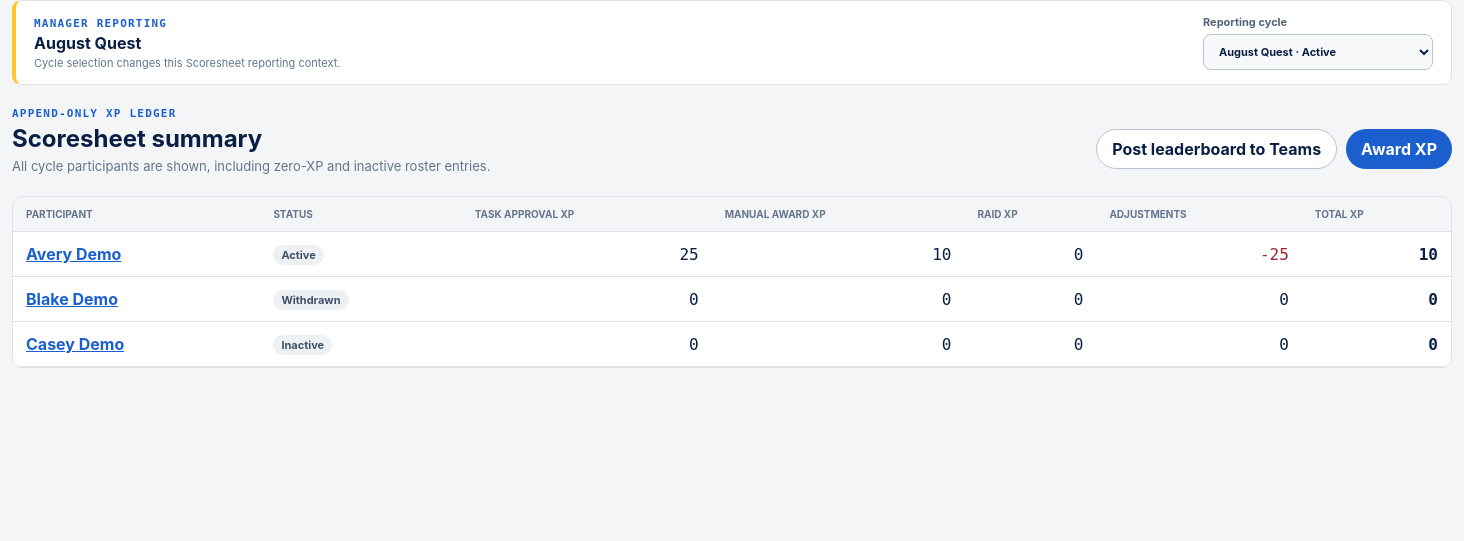
Test case: manager Scoresheet › posts only cycle context and a server-generated requestId, retaining it for retry
Click the button "Post leaderboard to Teams" at coordinates (1217, 148), box [1096,128,1337,168]
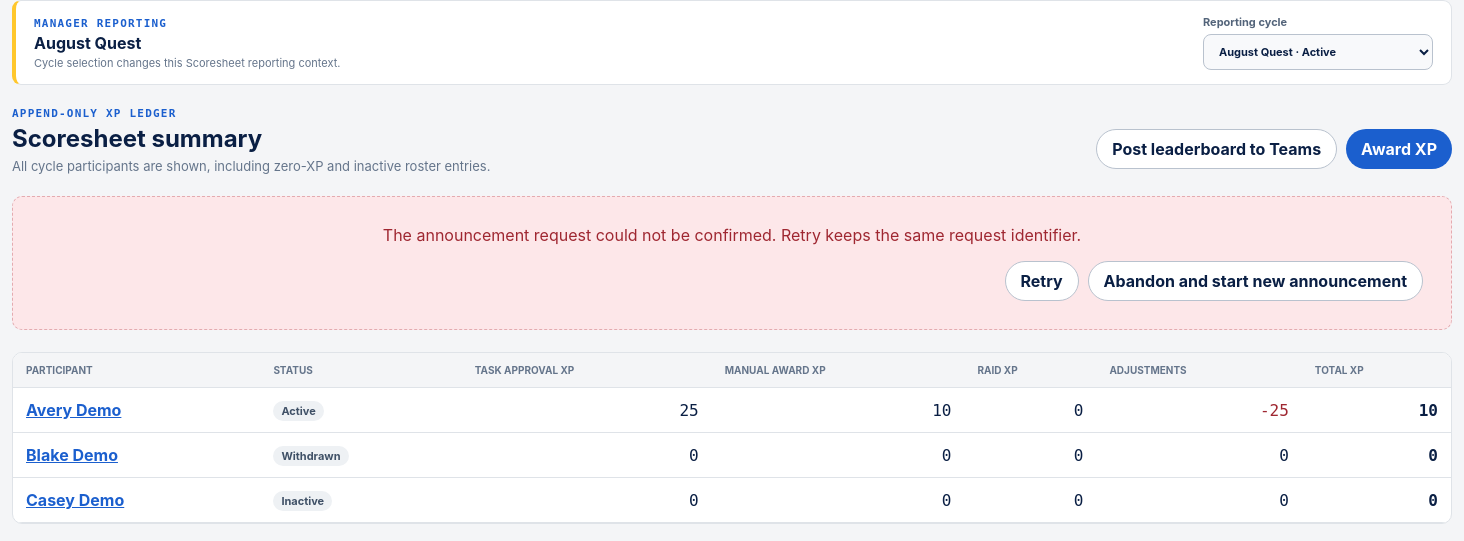
Now the message shows "same request identifier", box [383,225,1081,245]
Click the button "Retry" at coordinates (1042, 281), box [1004,261,1079,301]
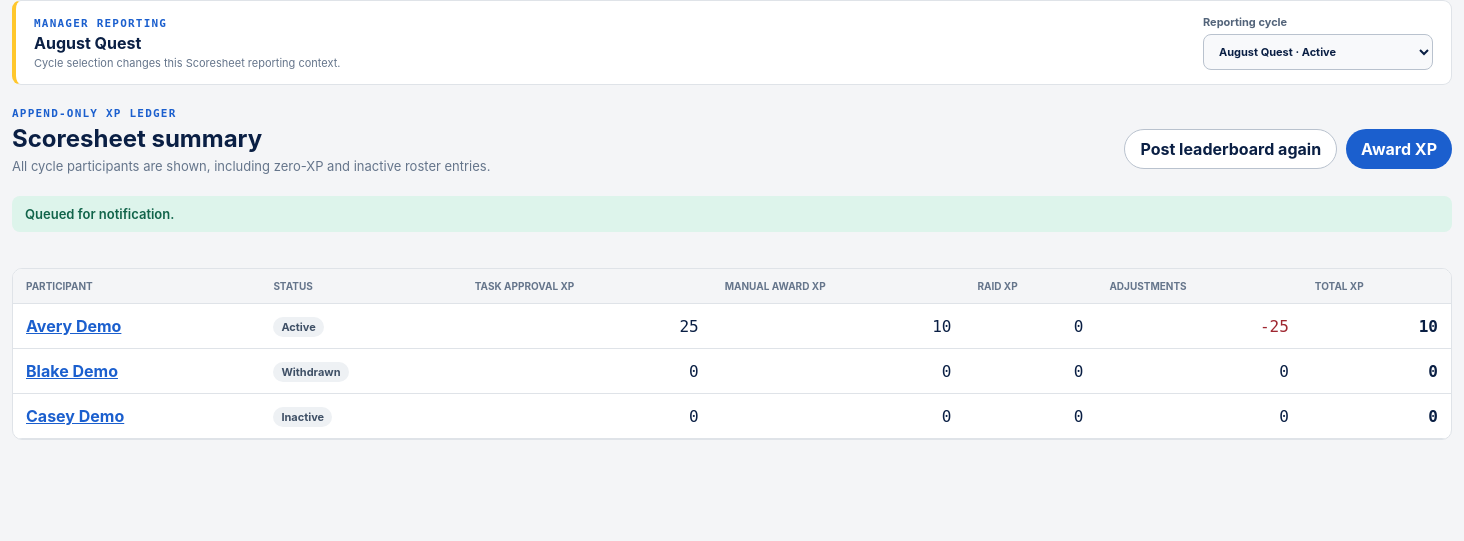
Now the message shows "Queued for notification", box [25,206,174,222]
